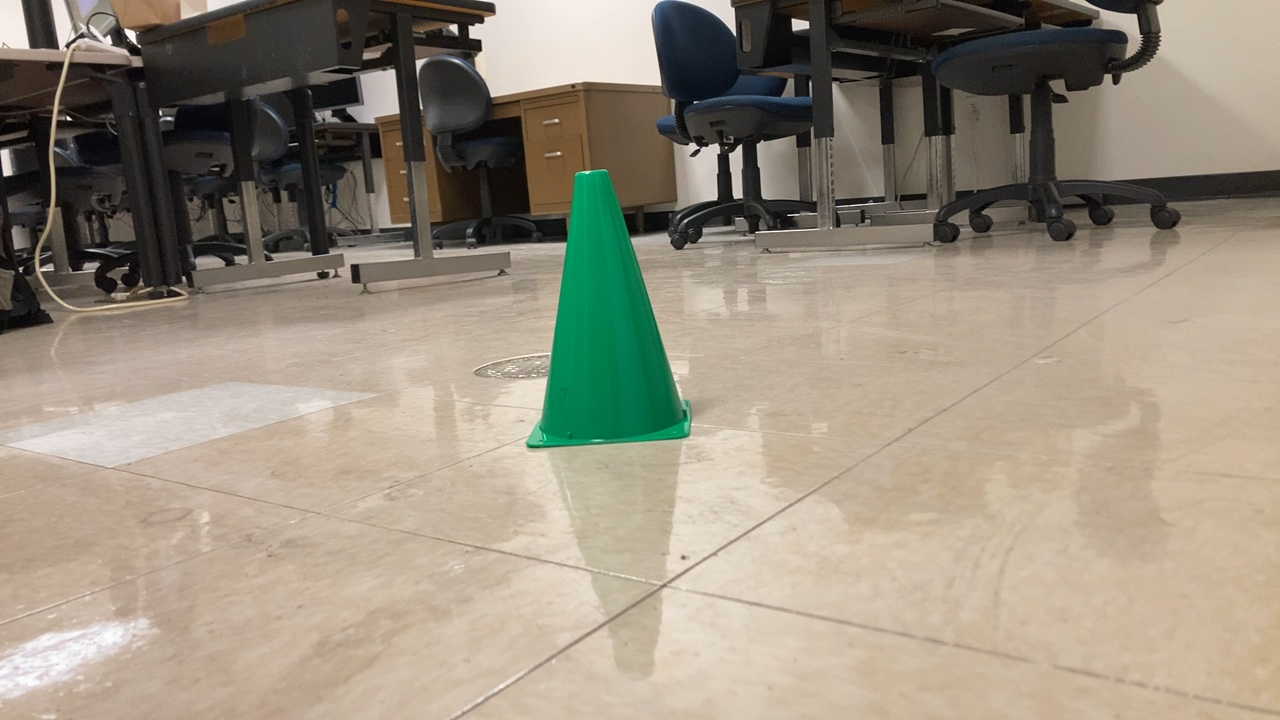green_cone: (518, 162, 694, 452)
